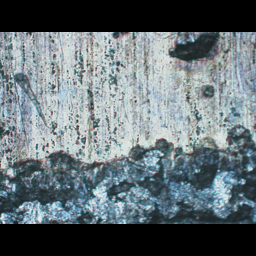d: (0, 119, 254, 223), (164, 32, 235, 66)
